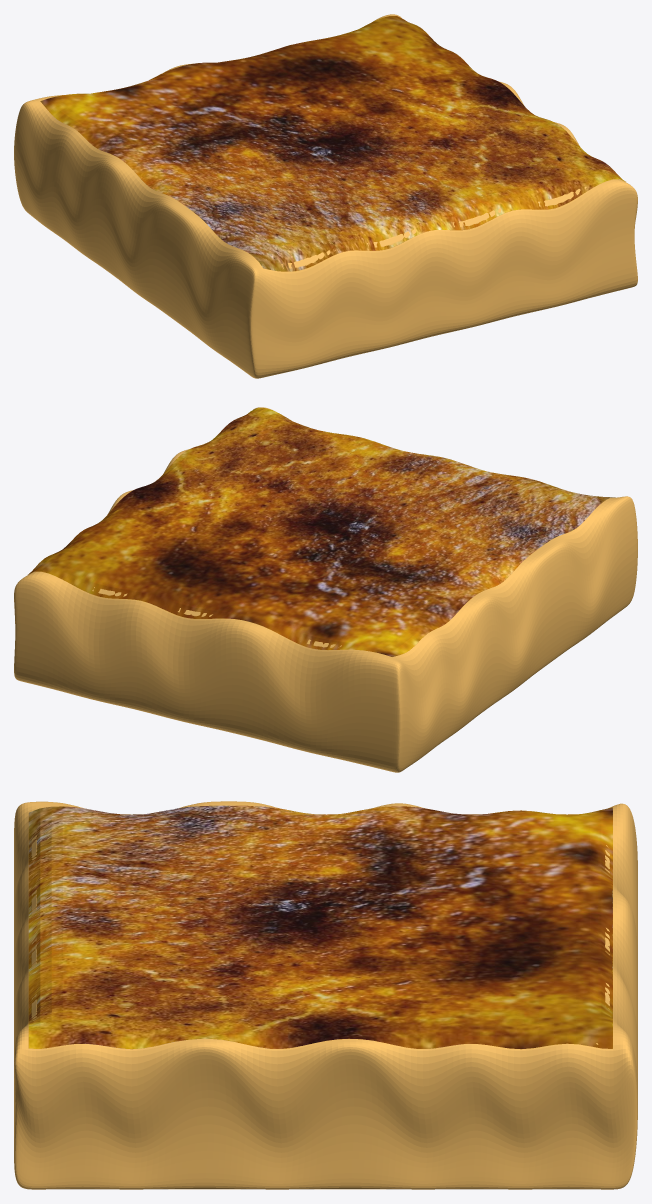
File: guarantita1.fbx
3 views of the same model, one above another, from view 1: azimuth 30°, elevation 25°; view 2: azimuth 150°, elevation 25°; view 3: azimuth 270°, elevation 25° (orthographic). The views are drawn at different scales.
Visible parts, largest first — view 1: Plane.001, Cube; view 2: Plane.001, Cube; view 3: Plane.001, Cube.
Boxes of the visible parts, x1,y1,x2,y2 form: Plane.001: (40,16,625,271); Cube: (14,14,637,378); Plane.001: (28,408,615,656); Cube: (14,407,637,772); Plane.001: (28,805,612,1049); Cube: (14,801,637,1189).
Size of the model in its own units: 726 by 201 by 769.
